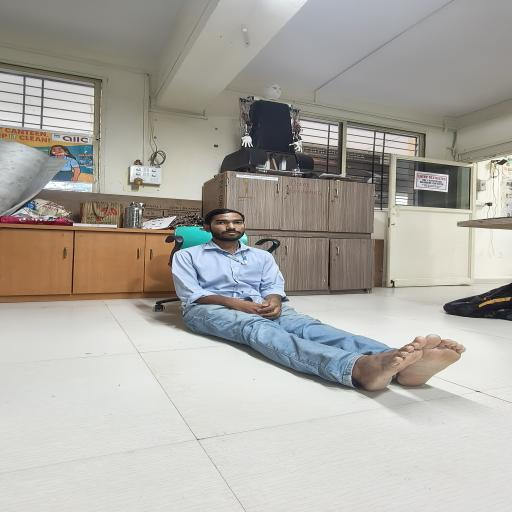survivor: (172, 208, 468, 391)
